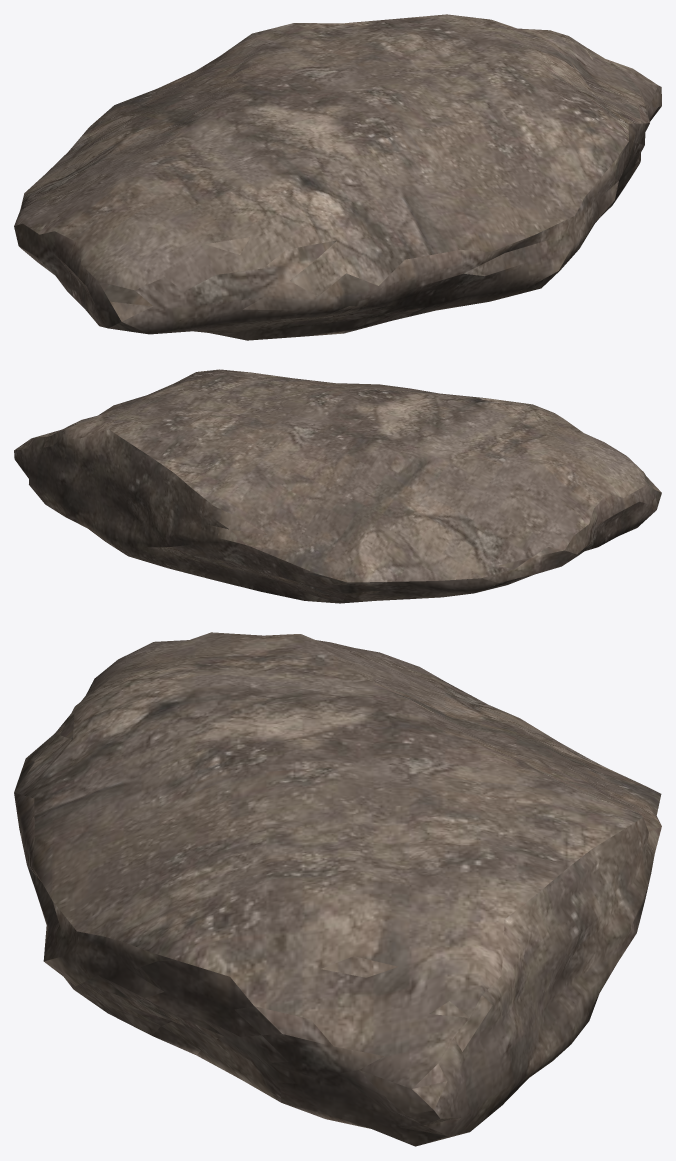
Rendered from rock_04.glb.
The picture shows the model from 3 angles, top to bottom: view 1: azimuth 30°, elevation 25°; view 2: azimuth 150°, elevation 25°; view 3: azimuth 270°, elevation 25°; orthographic projection. The views are drawn at different scales.
Parts seen in each view (by area): view 1: rock_04; view 2: rock_04; view 3: rock_04.
Boxes of the visible parts, left/top/right/bottom form: rock_04: left=14, top=14, right=661, bottom=340; rock_04: left=14, top=369, right=661, bottom=603; rock_04: left=14, top=632, right=661, bottom=1146.
Bounding box in the file's own units: 2.23 × 0.492 × 1.47.
1 material, 1 textured.
